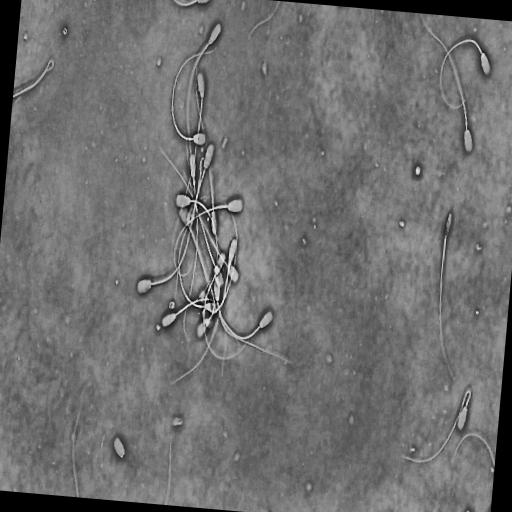dirt-particles: (413, 161, 423, 179), (62, 25, 69, 38), (465, 508, 472, 512)
folded-tail: (405, 390, 471, 462)
loose-head: (112, 434, 126, 462)
loose-tail: (13, 55, 56, 102)
normal: (170, 237, 237, 386), (136, 155, 205, 297), (417, 14, 475, 156), (169, 140, 216, 279), (201, 248, 254, 363), (186, 20, 224, 177), (399, 387, 473, 467), (172, 197, 243, 280), (217, 243, 274, 341), (172, 72, 205, 238), (174, 192, 219, 303), (170, 45, 217, 147), (195, 43, 218, 235), (438, 36, 493, 111), (185, 216, 216, 337), (437, 208, 456, 384), (182, 149, 199, 341), (159, 296, 223, 330)
proximal-droplet: (193, 177, 195, 186)
